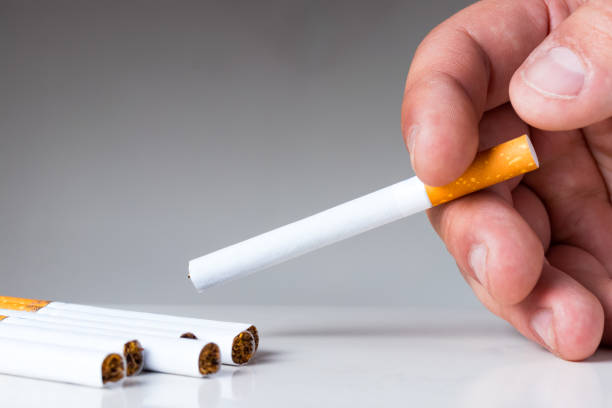cigarette: (188, 136, 540, 287), (0, 301, 256, 367), (0, 312, 222, 377), (0, 295, 261, 348), (0, 323, 145, 380), (0, 307, 200, 342), (0, 336, 128, 389)
